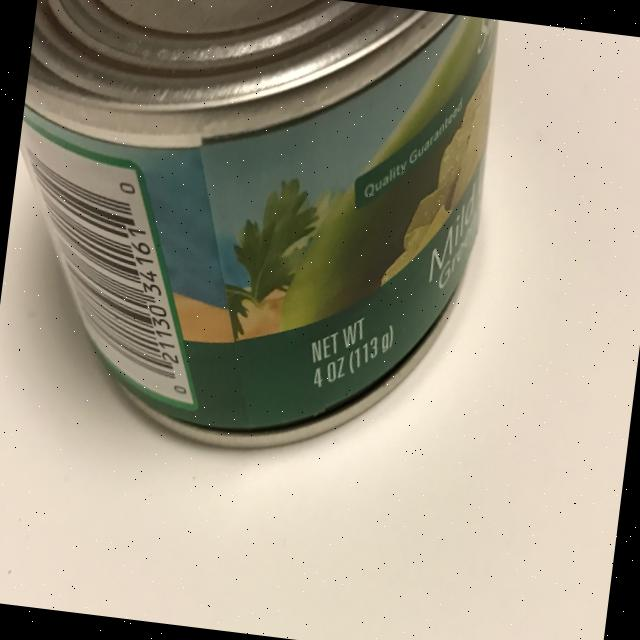metal: (0, 0, 504, 475)
